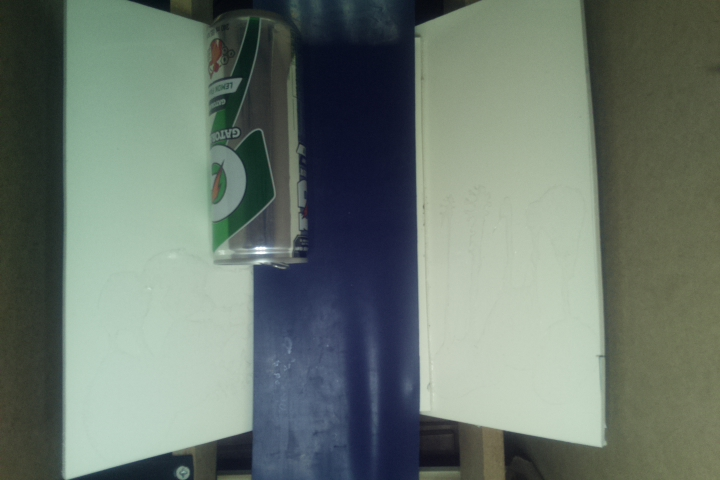can: (204, 8, 308, 273)
